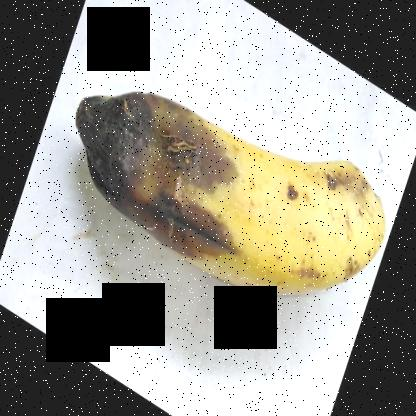rotten: (48, 43, 241, 273)
